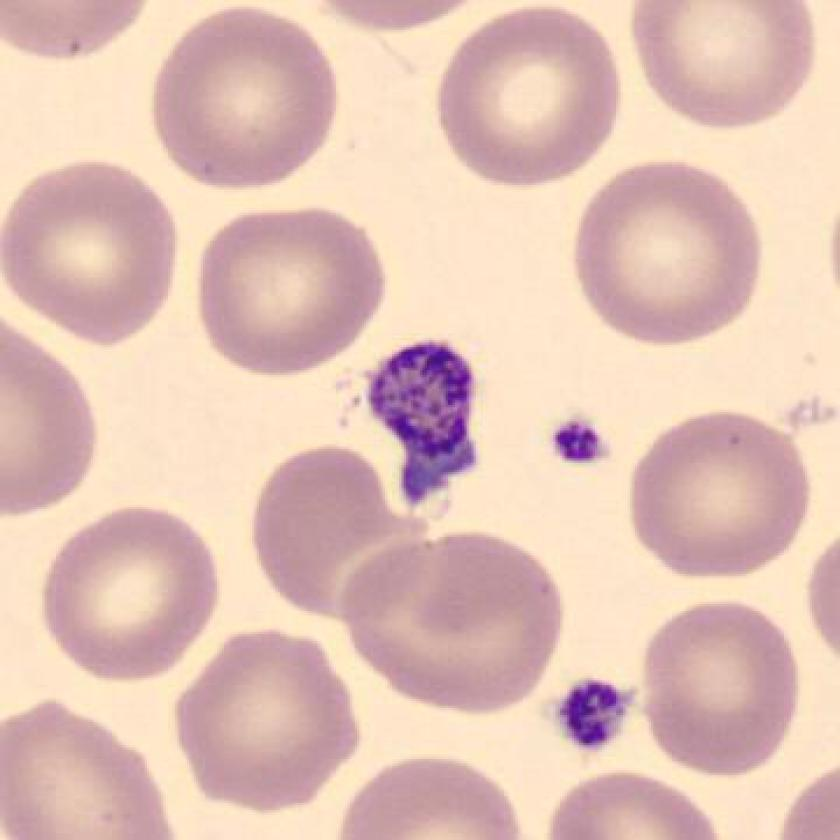platelets: (356, 328, 493, 520), (550, 665, 641, 762), (543, 408, 613, 473)
